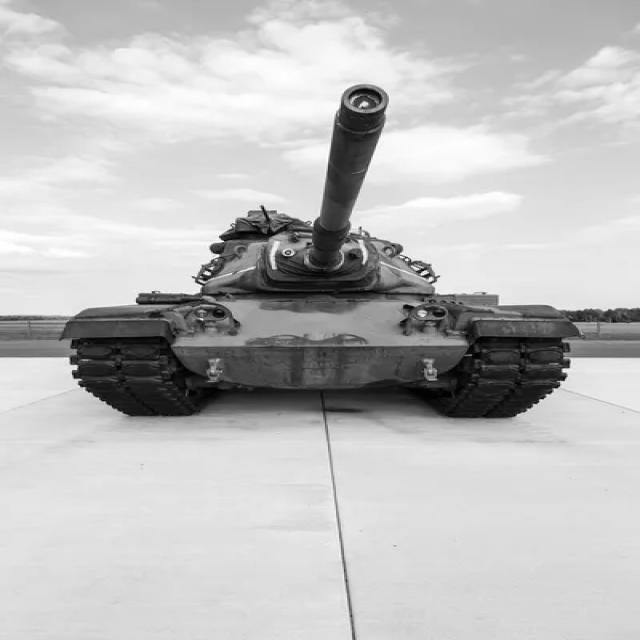Tank: (58, 78, 588, 422)
